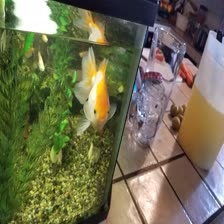Cuezo: (66, 46, 120, 135)
